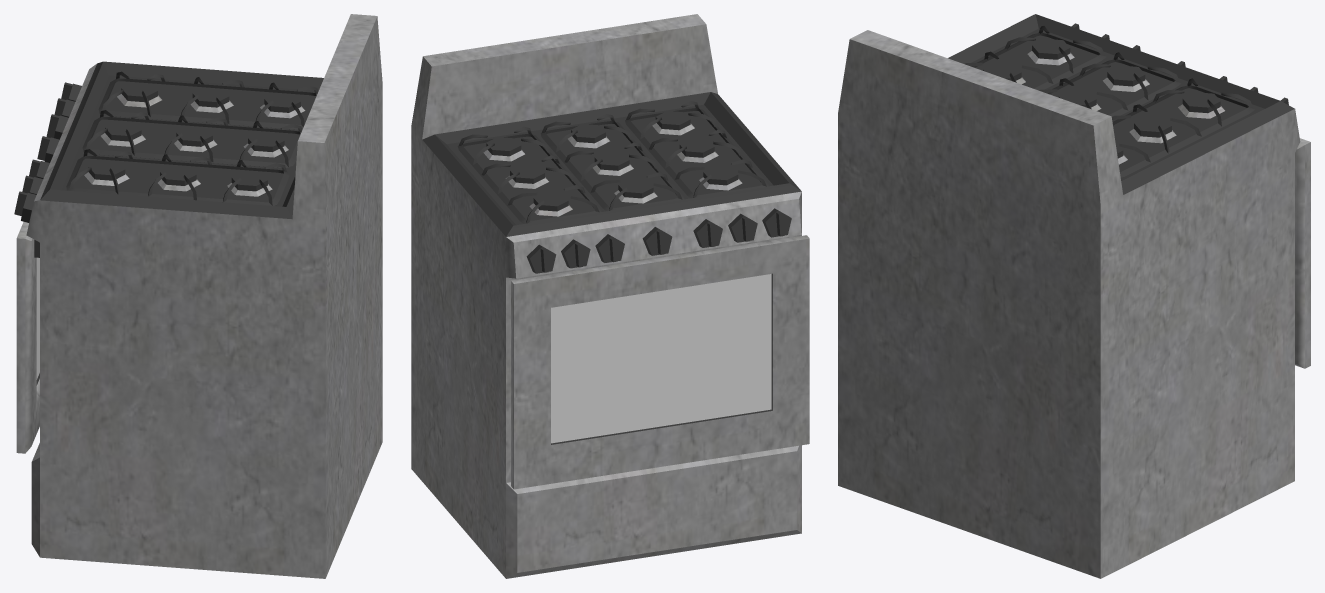
The picture shows the model from 3 angles, left to right: view 1: azimuth 30°, elevation 25°; view 2: azimuth 150°, elevation 25°; view 3: azimuth 270°, elevation 25°; orthographic projection. The views are drawn at different scales.
Visible parts, largest first — view 1: Cube069_Metal001_0, Cube069_Plastic_02001_0, Cube068_Metal001_0, Cylinder008_Plastic_02001_0, Cylinder011_Plastic_02001_0, Cylinder009_Plastic_02001_0, Cube068_Material008_0; view 2: Cube069_Metal001_0, Cube068_Metal001_0, Cube069_Plastic_02001_0, Cube068_Material008_0, Cylinder008_Plastic_02001_0, Cylinder011_Plastic_02001_0, Cylinder009_Plastic_02001_0, Cube068_Plastic_02001_0; view 3: Cube069_Metal001_0, Cube069_Plastic_02001_0, Cube068_Metal001_0, Cylinder009_Plastic_02001_0, Cylinder011_Plastic_02001_0, Cylinder008_Plastic_02001_0.
Part boxes in pixels (box(x1,y1,x2,y2)): Cube069_Metal001_0: box(26, 14, 382, 578); Cube069_Plastic_02001_0: box(14, 61, 323, 222); Cube068_Metal001_0: box(16, 222, 39, 453); Cylinder008_Plastic_02001_0: box(82, 110, 302, 168); Cylinder011_Plastic_02001_0: box(66, 149, 289, 205); Cylinder009_Plastic_02001_0: box(98, 71, 318, 129); Cube068_Material008_0: box(36, 257, 39, 379); Cube069_Metal001_0: box(411, 14, 801, 578); Cube068_Metal001_0: box(511, 235, 809, 489); Cube069_Plastic_02001_0: box(422, 92, 801, 273); Cube068_Material008_0: box(551, 274, 771, 443); Cylinder008_Plastic_02001_0: box(540, 114, 684, 211); Cylinder011_Plastic_02001_0: box(625, 101, 768, 198); Cylinder009_Plastic_02001_0: box(457, 126, 601, 223); Cube068_Plastic_02001_0: box(551, 273, 772, 444); Cube069_Metal001_0: box(838, 30, 1300, 578); Cube069_Plastic_02001_0: box(948, 14, 1294, 194); Cube068_Metal001_0: box(1295, 138, 1310, 368); Cylinder009_Plastic_02001_0: box(1111, 78, 1254, 177); Cylinder011_Plastic_02001_0: box(964, 26, 1106, 90); Cylinder008_Plastic_02001_0: box(1039, 52, 1181, 116).
Size of the model in its own units: 1.02 by 1.08 by 1.03.
Materials: 3 (1 with a texture image).
